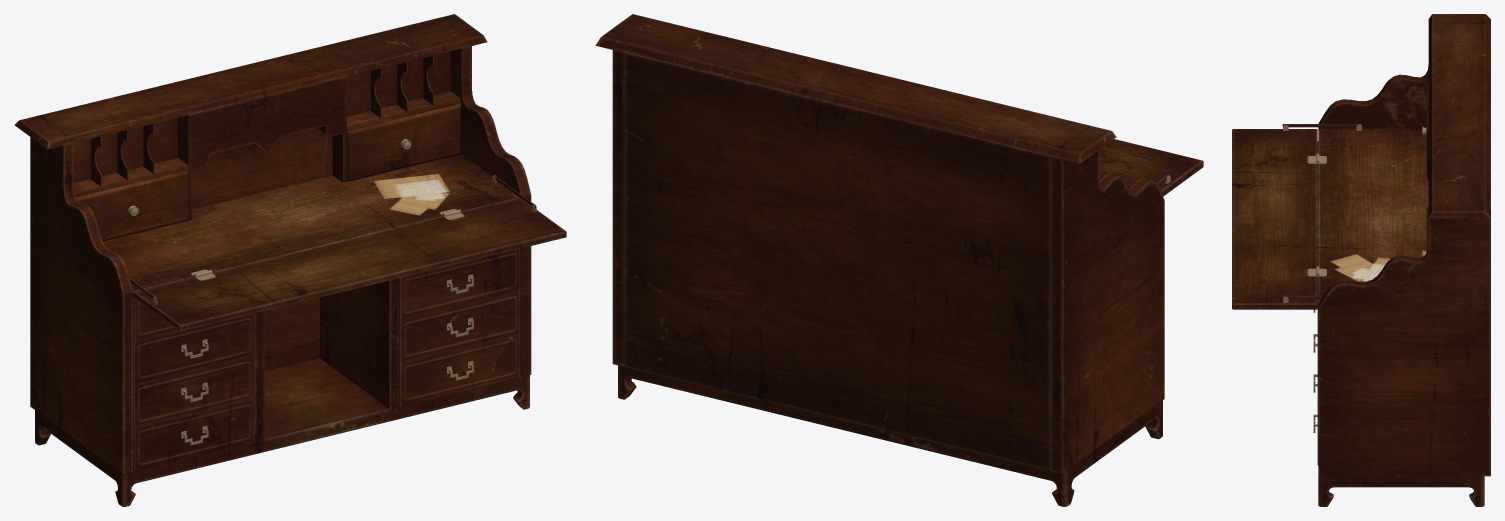
Rendered from Study Table.fbx.
3 renders of one model, left to right at view 1: azimuth 30°, elevation 25°; view 2: azimuth 150°, elevation 25°; view 3: azimuth 270°, elevation 25°, orthographic. The views are drawn at different scales.
Parts seen in each view (by area): view 1: XI_AR_Study_Table.Shape; view 2: XI_AR_Study_Table.Shape; view 3: XI_AR_Study_Table.Shape.
Boxes of the visible parts, x1,y1,x2,y2 form: XI_AR_Study_Table.Shape: (14,14,566,506); XI_AR_Study_Table.Shape: (595,14,1203,506); XI_AR_Study_Table.Shape: (1232,14,1490,506).
Bounding box in the file's own units: 174 × 123 × 95.53.
Materials: 1 (1 with a texture image).
